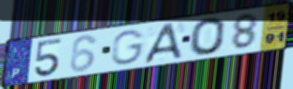5: (33, 37, 64, 78)
6: (68, 33, 101, 74)
8: (229, 12, 260, 51)
A: (142, 20, 185, 65)
G: (110, 29, 148, 67)
O: (189, 16, 228, 57)
